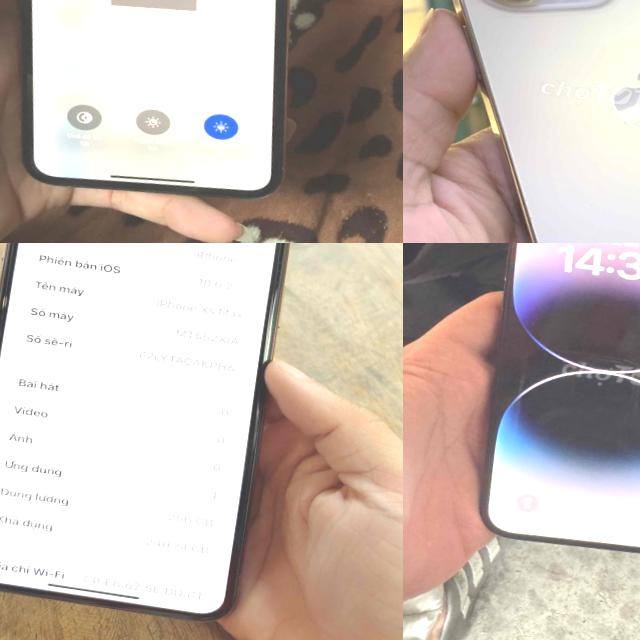gen_12_13: (403, 0, 640, 243)
gen_14: (459, 243, 640, 572)
gen_x_xs: (0, 243, 321, 640), (0, 0, 347, 225)
